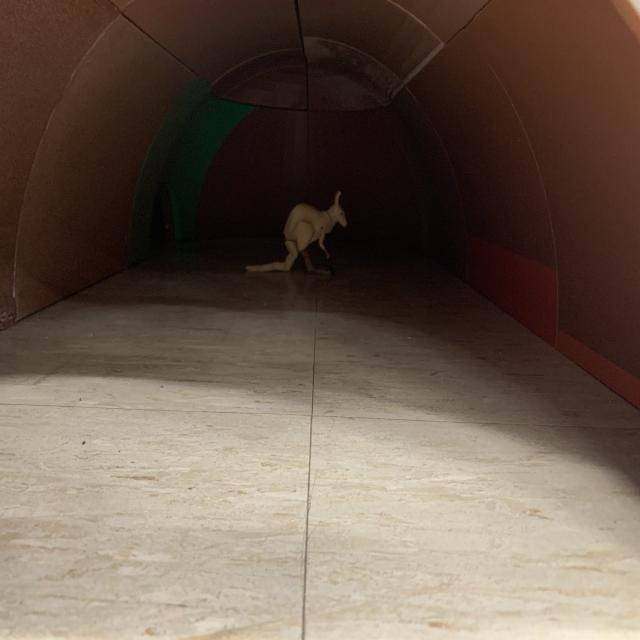kangaroo: (240, 183, 350, 278)
